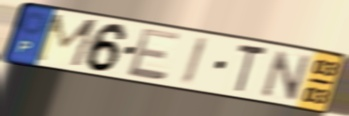6: (82, 21, 132, 74)
E: (125, 26, 183, 82)
I: (178, 35, 211, 88)
M: (31, 12, 102, 70)
N: (259, 47, 314, 102)
T: (232, 42, 270, 95)
